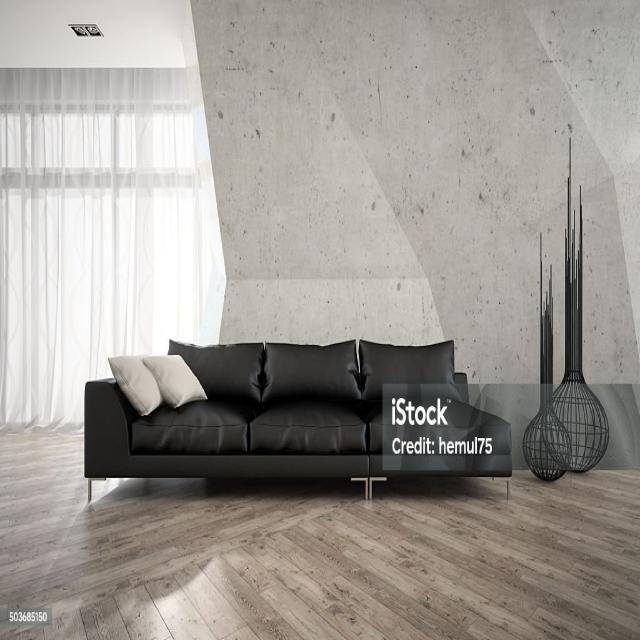back_cushion: (169, 339, 468, 405)
base: (89, 447, 512, 484)
left_arm: (446, 402, 511, 453)
legs: (351, 476, 386, 499), (88, 478, 106, 501), (508, 478, 509, 499)
right_arm: (85, 380, 137, 476)
seat_cushion: (131, 400, 365, 453), (368, 403, 488, 454)
stallion-sofa: (0, 0, 639, 639)
